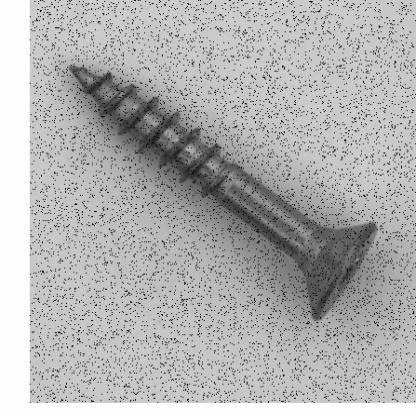metal: (67, 62, 378, 320)
